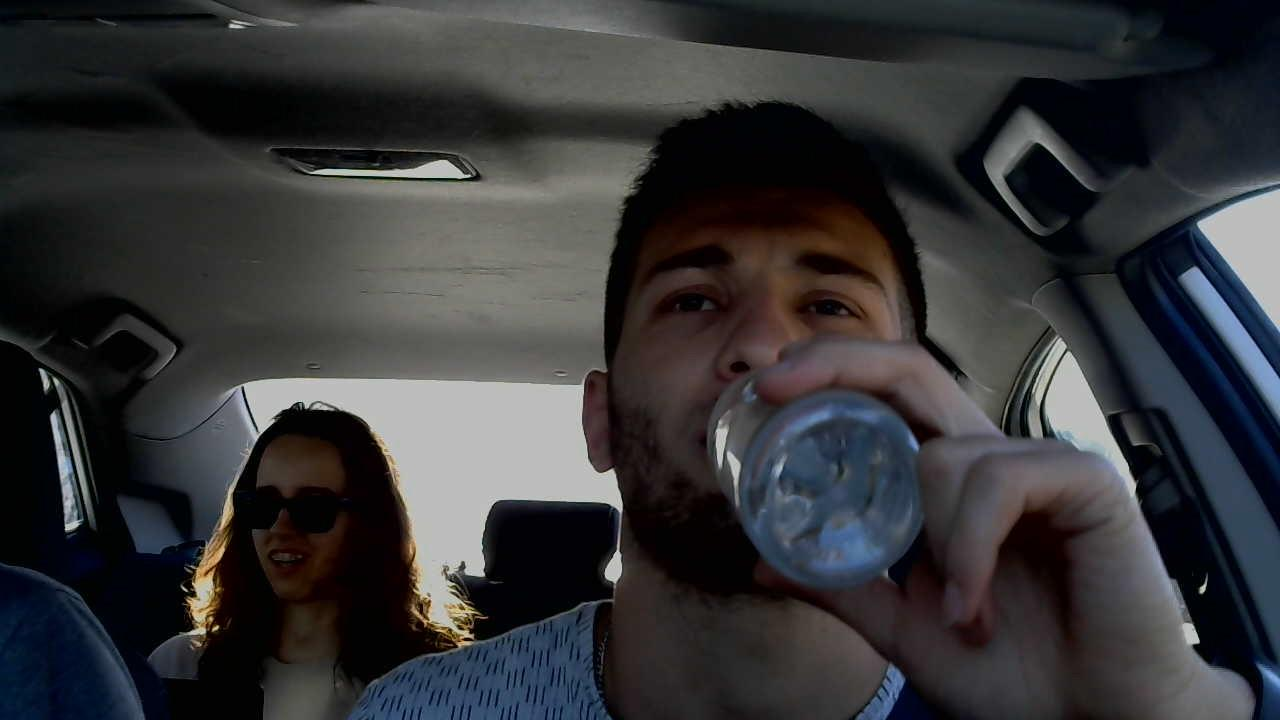Drinking: (579, 189, 994, 648)
